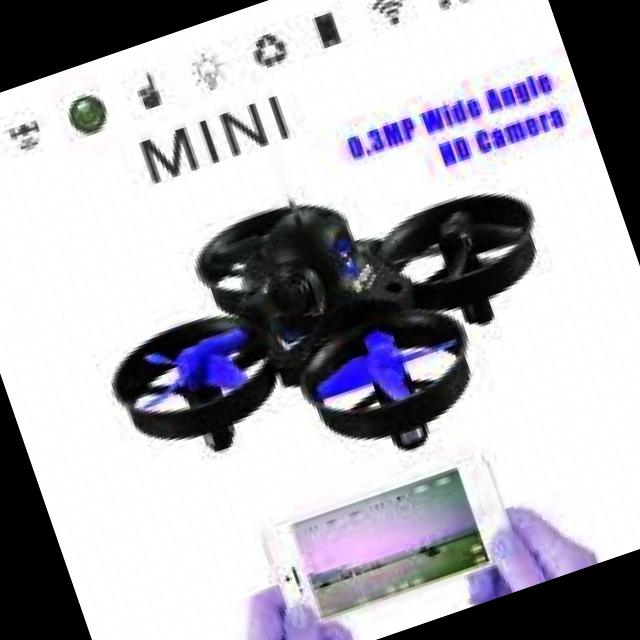drone: (58, 103, 622, 554)
